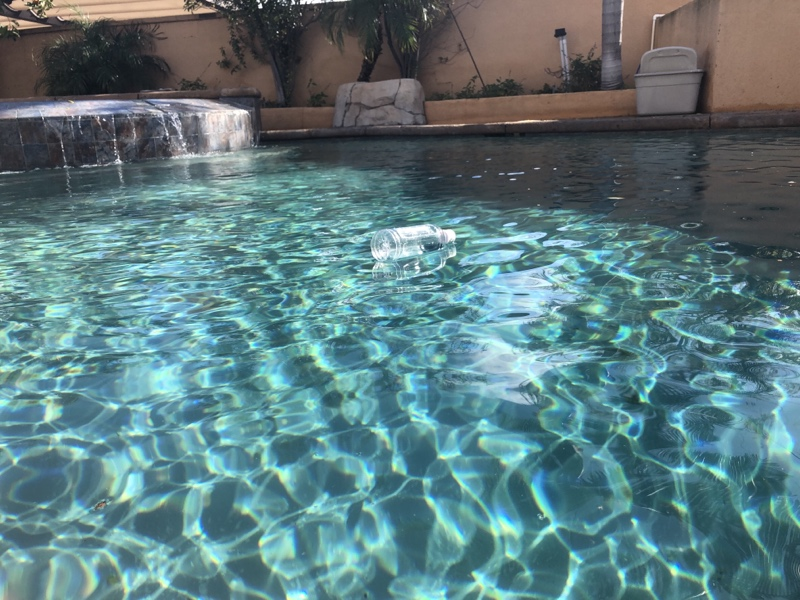Plastic Bottle: (364, 224, 458, 263)
